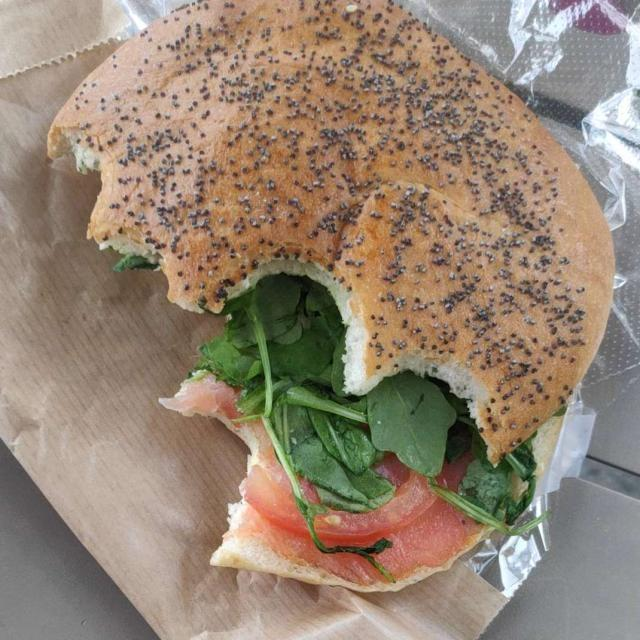bun: (60, 1, 609, 586)
salad: (207, 282, 534, 529)
salmon: (172, 370, 473, 572)
tomato: (244, 452, 438, 545)
